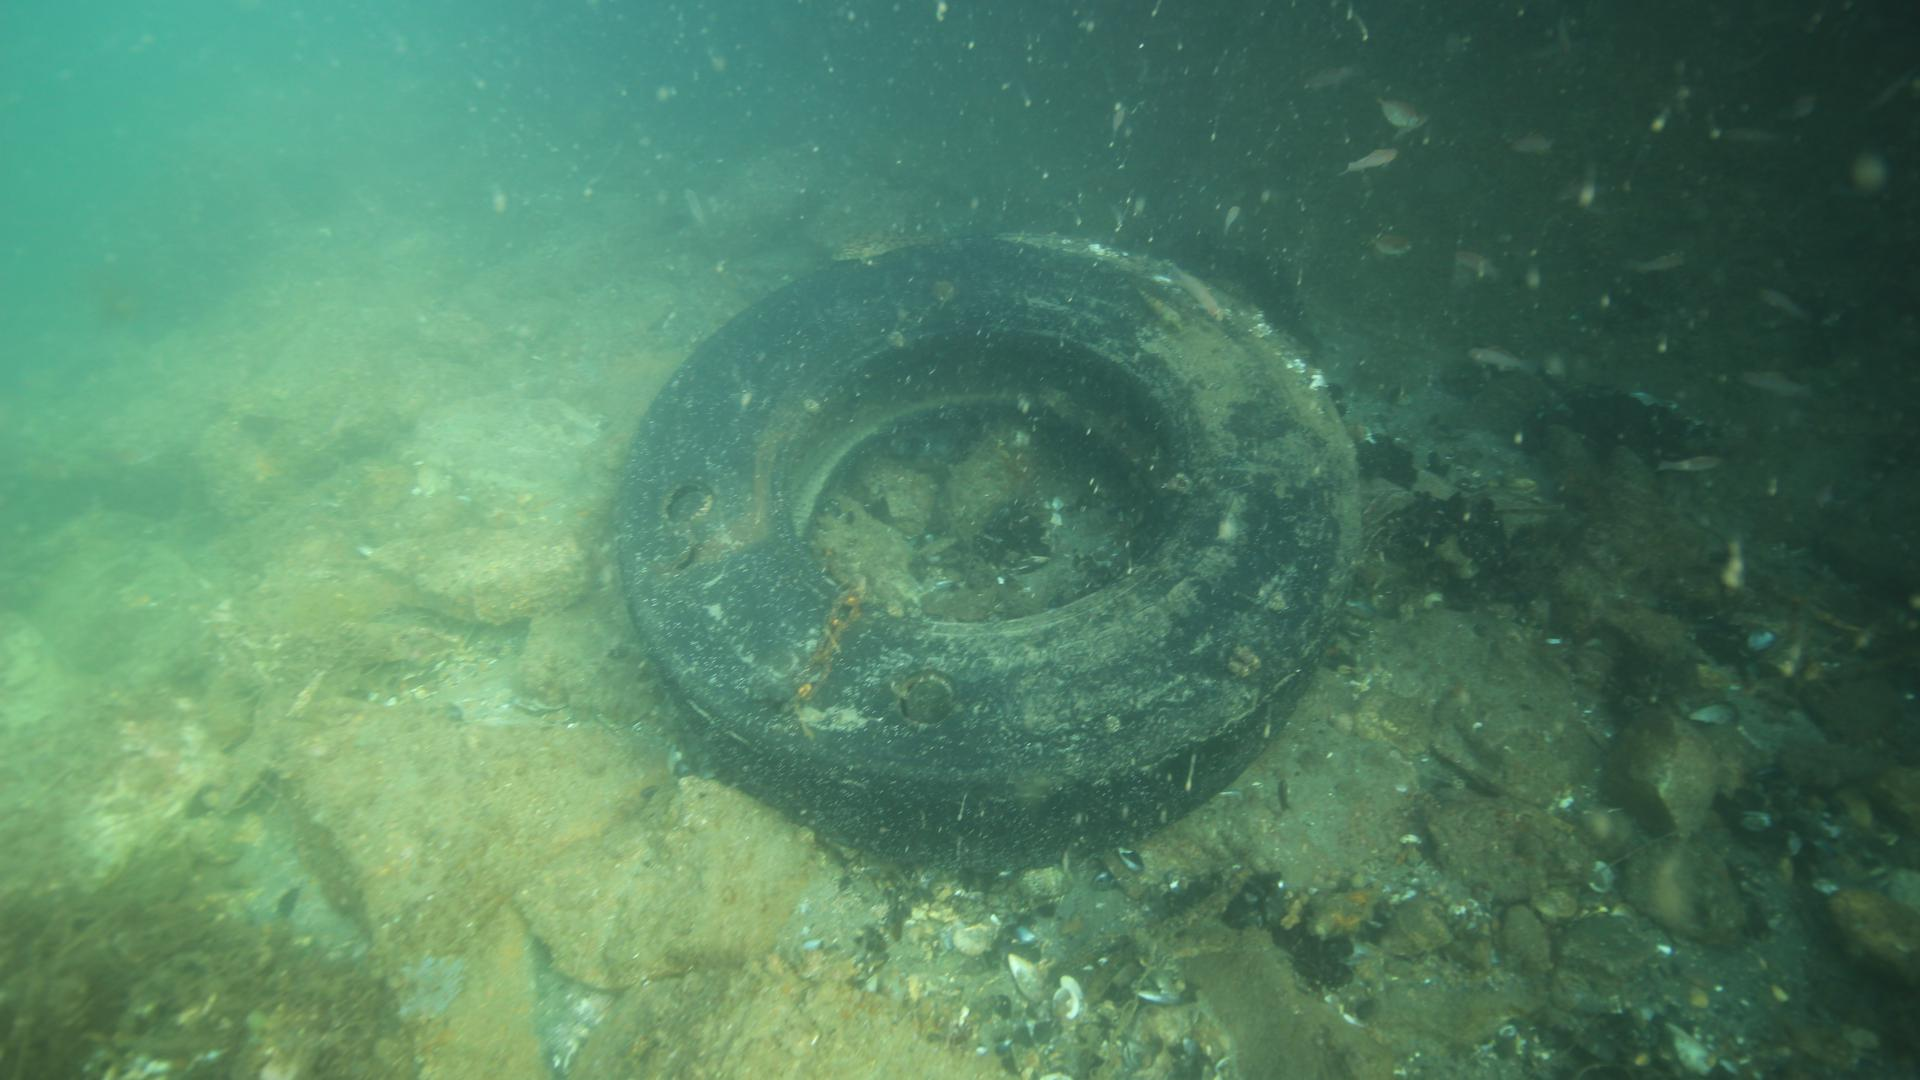tire: (613, 229, 1366, 847)
